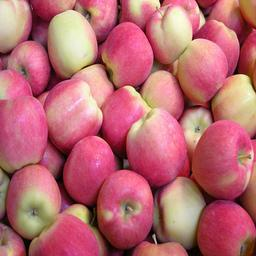apple: (124, 108, 189, 189), (190, 119, 252, 198), (95, 169, 154, 250), (43, 79, 102, 151), (4, 164, 62, 236), (151, 175, 206, 248), (62, 135, 115, 206), (45, 9, 99, 77), (100, 22, 154, 89), (176, 36, 229, 103), (99, 85, 149, 155), (1, 96, 47, 171), (197, 199, 256, 256), (187, 22, 236, 89), (28, 213, 100, 256), (211, 74, 256, 138), (146, 3, 193, 63), (4, 41, 50, 94), (139, 69, 184, 119), (1, 1, 32, 54), (74, 1, 116, 40), (234, 30, 255, 88), (30, 1, 76, 20)
